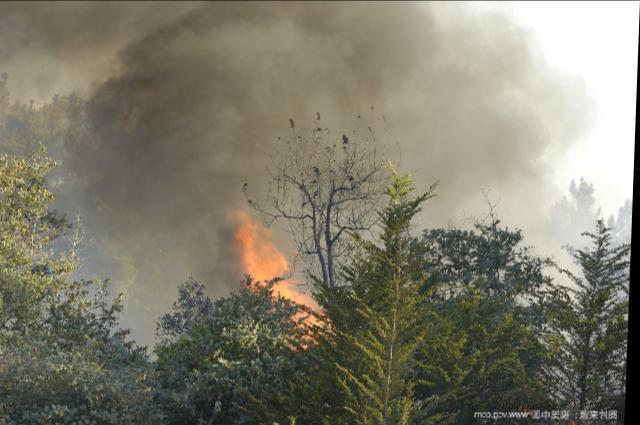fire: (247, 248, 288, 282), (237, 215, 264, 245), (278, 284, 315, 302)
